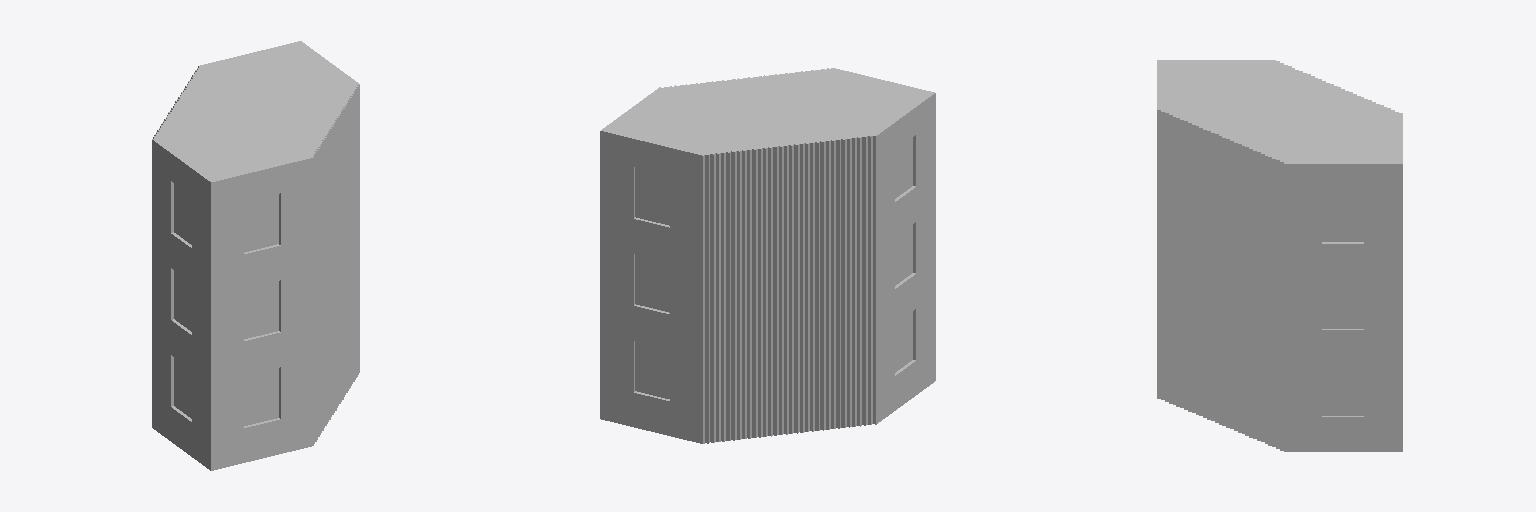
File: case_5_color.obj
3 renders of one model, left to right at view 1: azimuth 30°, elevation 25°; view 2: azimuth 150°, elevation 25°; view 3: azimuth 270°, elevation 25°, orthographic.
Parts seen in each view (by area): view 1: object 1; view 2: object 1; view 3: object 1.
Part boxes in pixels (left/top/right/bottom): object 1: left=152, top=41, right=359, bottom=470; object 1: left=600, top=68, right=935, bottom=443; object 1: left=1157, top=60, right=1402, bottom=451.
Bounding box in the file's own units: 6.4 × 8.3 × 6.4.